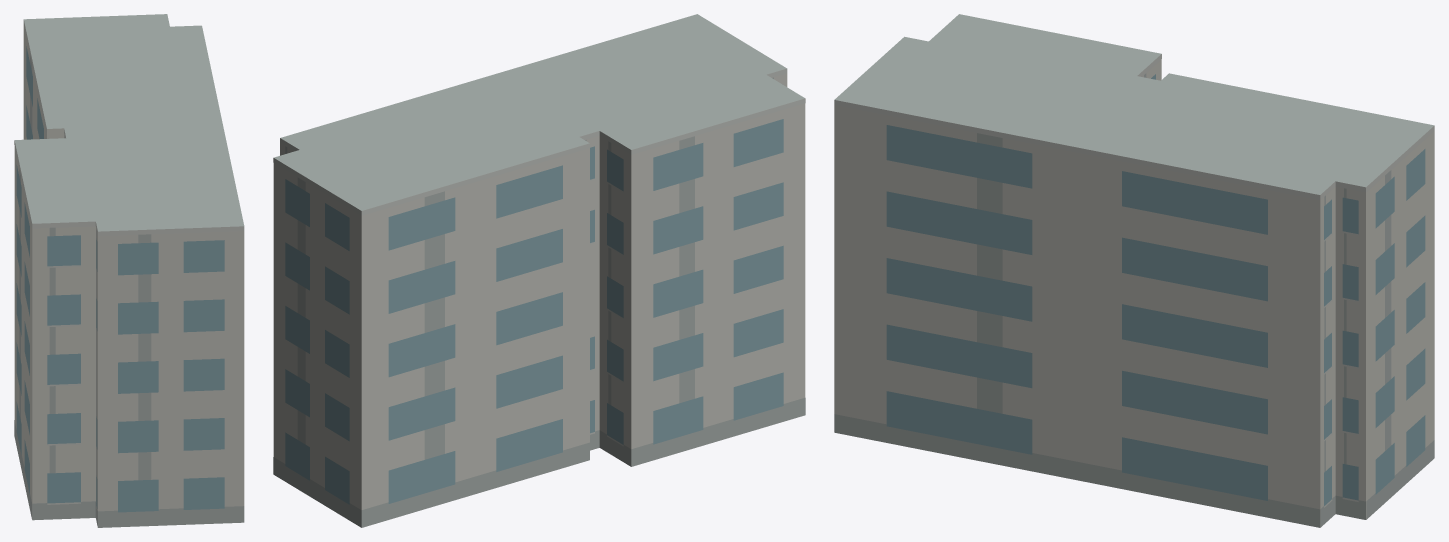
The model's file is survey-upis-32634362.glb.
3 renders of one model, left to right at view 1: azimuth 30°, elevation 25°; view 2: azimuth 150°, elevation 25°; view 3: azimuth 270°, elevation 25°, orthographic. The views are drawn at different scales.
Visible parts, largest first — view 1: survey-upis-32634362.tmp; view 2: survey-upis-32634362.tmp; view 3: survey-upis-32634362.tmp.
Boxes of the visible parts, x1,y1,x2,y2 form: survey-upis-32634362.tmp: (14,14,244,527); survey-upis-32634362.tmp: (273,14,805,527); survey-upis-32634362.tmp: (834,14,1434,527).
Size of the model in its own units: 18.1 by 15.5 by 25.35.
